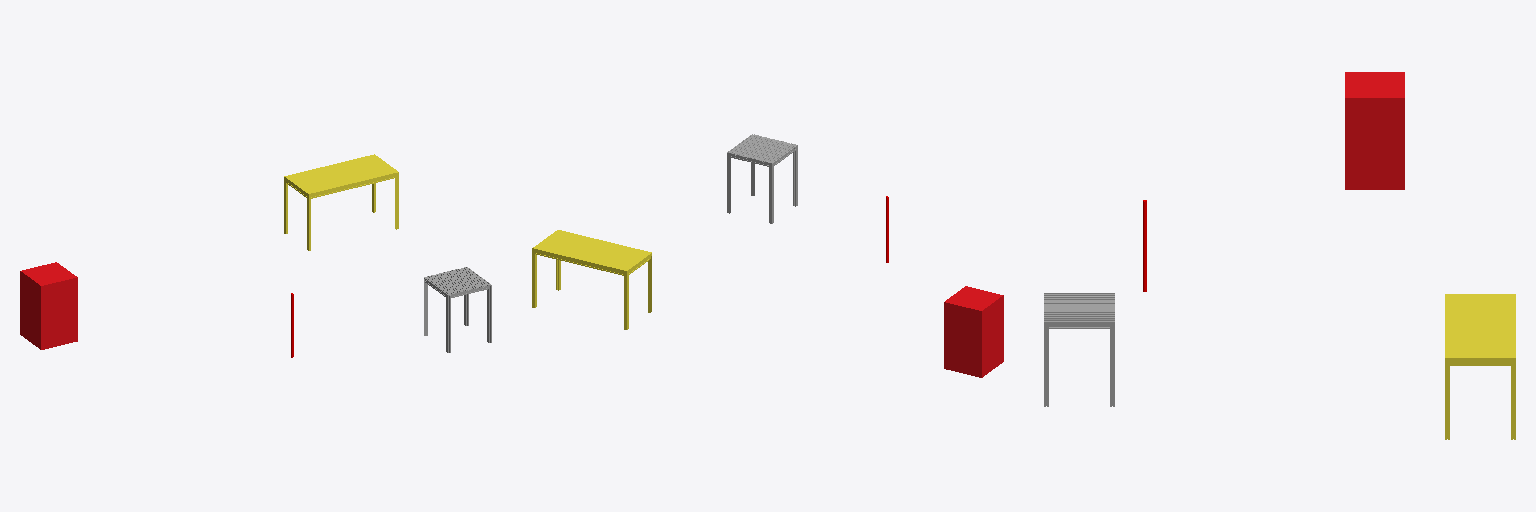
The robot description file, URDF, robot "Workstations":
<robot name="Workstations">

 <material name="red">
    <color rgba="1 0 0 1"/>
  </material>

<link name="base_link">
<visual>
    <origin xyz="0 0 0.5" rpy="0 0 0" />
      <geometry>
        <cylinder length="1" radius="0.02"/>
      </geometry>
   <material name="red"/>
    </visual>
  </link>

<link name="Slotted_Plate_Bench_700x1500">
    <visual>
     <origin xyz="0 0 0" rpy="0 0 0" />
      <geometry>  
            <mesh filename="../12345/Workstations/Slotted_Plate_Bench_700x1500.stl"/> 
      </geometry>  
<material name="Alloy_grey">
        <color rgba="0.701 0.701 0.701 1"/>
      </material>
    </visual>
  </link>

<link name="Slotted_Plate_Bench_700x720x900">
    <visual>
     <origin xyz="0 0 0" rpy="0 0 0" />
      <geometry>  
            <mesh filename="../12345/Workstations/Slotted_Plate_Bench_700x720x900.stl"/> 
      </geometry>  
<material name="Alloy_grey">
        <color rgba="0.701 0.701 0.701 1"/>
      </material>
    </visual>
  </link>





<link name="WoodPlate_Bench_700x1500x900">
    <visual>
     <origin xyz="0 0 0" rpy="0 0 0" />
      <geometry>  
            <mesh filename="../12345/Workstations/WoodPlate_Bench_700x1500x900.stl"/> 
      </geometry>  
    </visual>
  </link>

<link name="conveyerTable">
    <visual>
     <origin xyz="0 0 0" rpy="0 0 0" />
      <geometry>  
            <mesh filename="../12345/Workstations/transportband02.stl"/> 
      </geometry>  
    </visual>
  </link>

<link name="Stele_600x600x1015">
    <visual>
     <origin xyz="0 0 0" rpy="0 0 0" />
      <geometry>  
            <mesh filename="../12345/Workstations/Stele_600x600x1015.stl"/> 
      </geometry>  
      <material name="BIBA_red">
        <color rgba="0.929 0.109 0.141 1"/>
      </material>
    </visual>
  </link>


 <joint name="Slotted_Plate_Bench_700x1500ToBaseLink" type="fixed"> 
    <parent link="base_link"/>
    <child link="Slotted_Plate_Bench_700x1500"/>
    <origin xyz="2 1 0.9"/>
  </joint>

 <joint name="WoodPlate_Bench_700x1500x900ToBaseLink" type="fixed"> 
    <parent link="base_link"/>
    <child link="WoodPlate_Bench_700x1500x900"/>
    <origin xyz="2 3 0.9"/>
  </joint>


  <joint name="conveyerTableToBaseLink" type="fixed"> 
    <parent link="base_link"/>
    <child link="conveyerTable"/>
    <origin xyz="-3 1 0.9"/>
  </joint>

<joint name="Stele_600x600x1015ToBaseLink" type="fixed"> 
    <parent link="base_link"/>
    <child link="Stele_600x600x1015"/>
    <origin xyz="-3 2 0"/>
  </joint>


<joint name="Slotted_Plate_Bench_700x720x900ToBaseLink" type="fixed"> 
    <parent link="base_link"/>
    <child link="Slotted_Plate_Bench_700x720x900"/>
    <origin xyz="2 -1 0"/>
  </joint>
</robot>

--- Render facts (derived) ---
Views: 3 orthographic renders of the robot side by side, from view 1: azimuth 30°, elevation 25°; view 2: azimuth 150°, elevation 25°; view 3: azimuth 270°, elevation 25°.
Robot: Workstations — 6 links, 5 joints (5 fixed); root link base_link; default pose: all joints at 0.
Links seen in each view (by area): view 1: Stele_600x600x1015, WoodPlate_Bench_700x1500x900, Slotted_Plate_Bench_700x720x900; view 2: Stele_600x600x1015, WoodPlate_Bench_700x1500x900, Slotted_Plate_Bench_700x720x900; view 3: Stele_600x600x1015, WoodPlate_Bench_700x1500x900, Slotted_Plate_Bench_700x720x900.
Link boxes in pixels (left/top/right/bottom): Stele_600x600x1015: left=20, top=262, right=77, bottom=349; WoodPlate_Bench_700x1500x900: left=284, top=154, right=398, bottom=250; Slotted_Plate_Bench_700x720x900: left=424, top=267, right=491, bottom=352; Stele_600x600x1015: left=944, top=286, right=1003, bottom=377; WoodPlate_Bench_700x1500x900: left=532, top=230, right=651, bottom=329; Slotted_Plate_Bench_700x720x900: left=727, top=134, right=797, bottom=223; Stele_600x600x1015: left=1345, top=72, right=1404, bottom=189; WoodPlate_Bench_700x1500x900: left=1445, top=294, right=1515, bottom=439; Slotted_Plate_Bench_700x720x900: left=1044, top=293, right=1114, bottom=406.
Bounding box of the posed robot: 6.5 × 4.7 × 1.01 m (x, y, z).
Meshes: 5 distinct files referenced, 3 mesh visuals loaded (3 binary STL); not drawn: 2 (reference not matched to a file when rendering).
